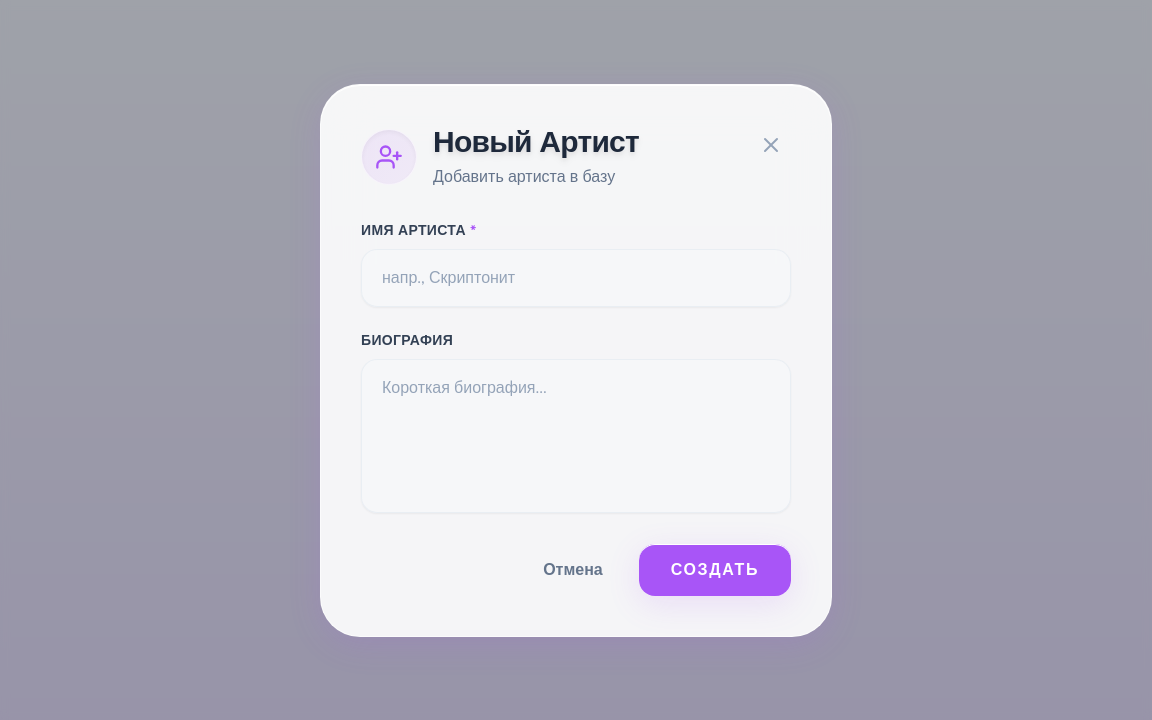
CreateArtistModal › validates required fields
The image size is (1152, 720).
Click the button "Создать" at (715, 570), box x1=639 y1=544 x2=791 y2=596
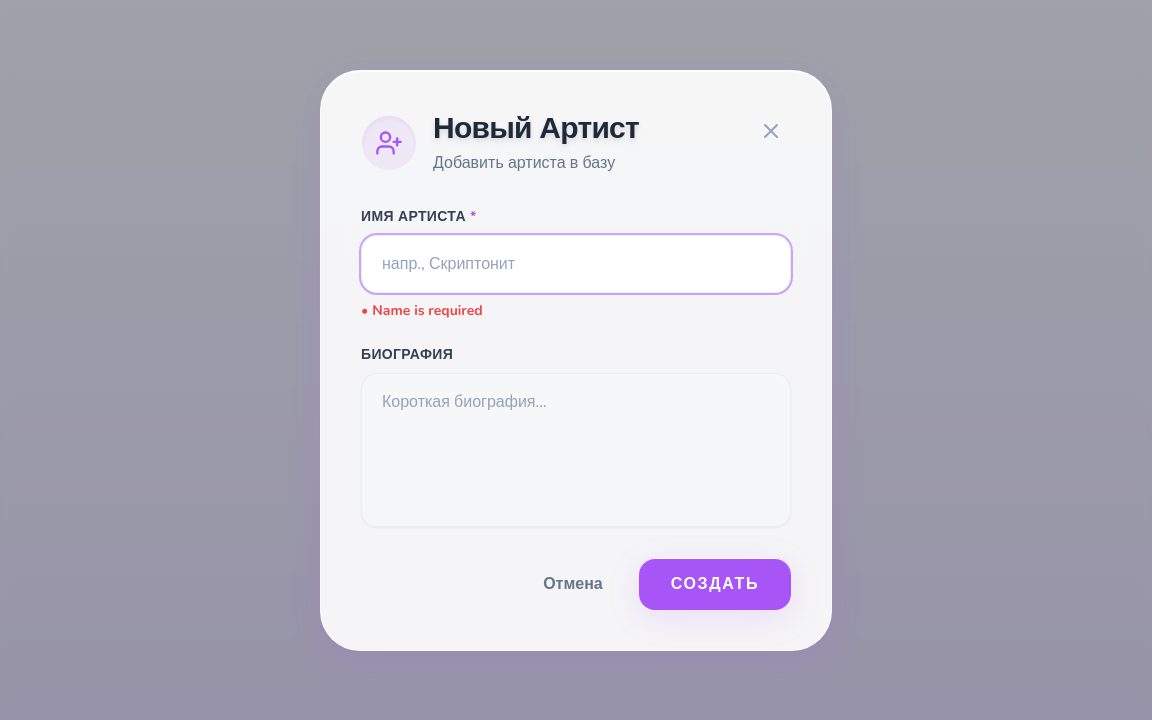
Now the text "Name is required" is shown, box x1=372 y1=300 x2=483 y2=320
